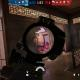Character: (44, 41, 50, 53)
